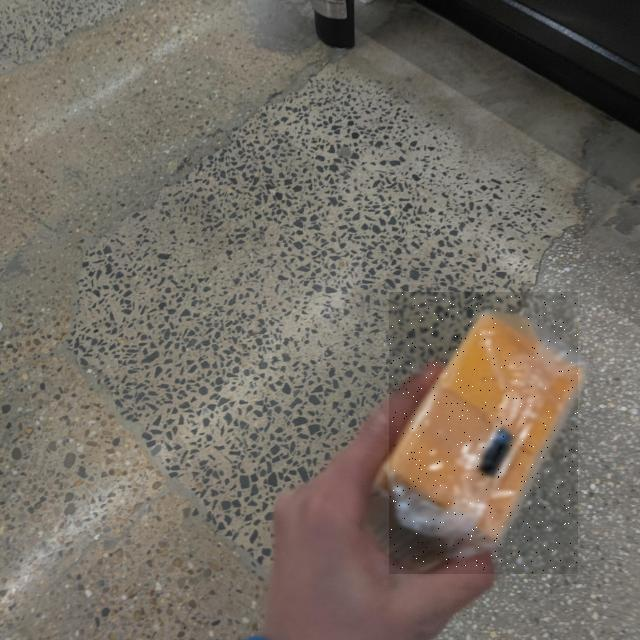Cheese: (389, 293, 578, 575)
